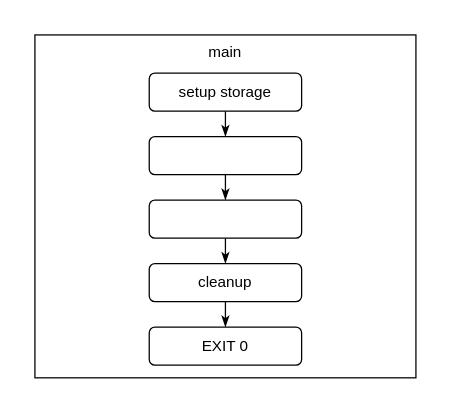
This 450x411 diagram has some shape labels left out. The shapes that lost their labels are listed below. From the top down, each one's centre as x and y in pixels, then its label:
pixel 225 155: setup file
pixel 225 218: write storage to file
